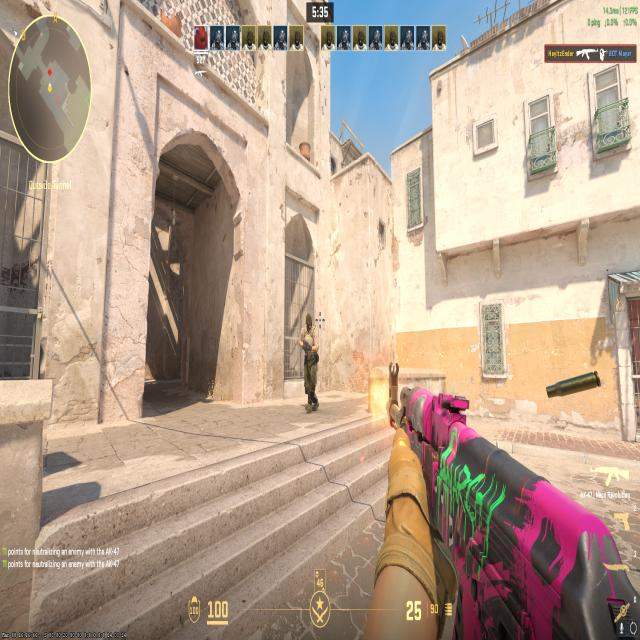t: (292, 310, 326, 422)
